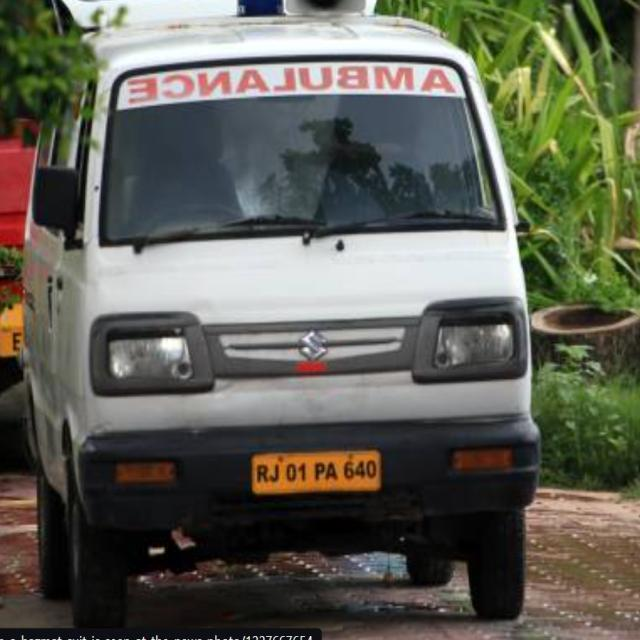emergency_vehicle: (19, 22, 571, 609)
